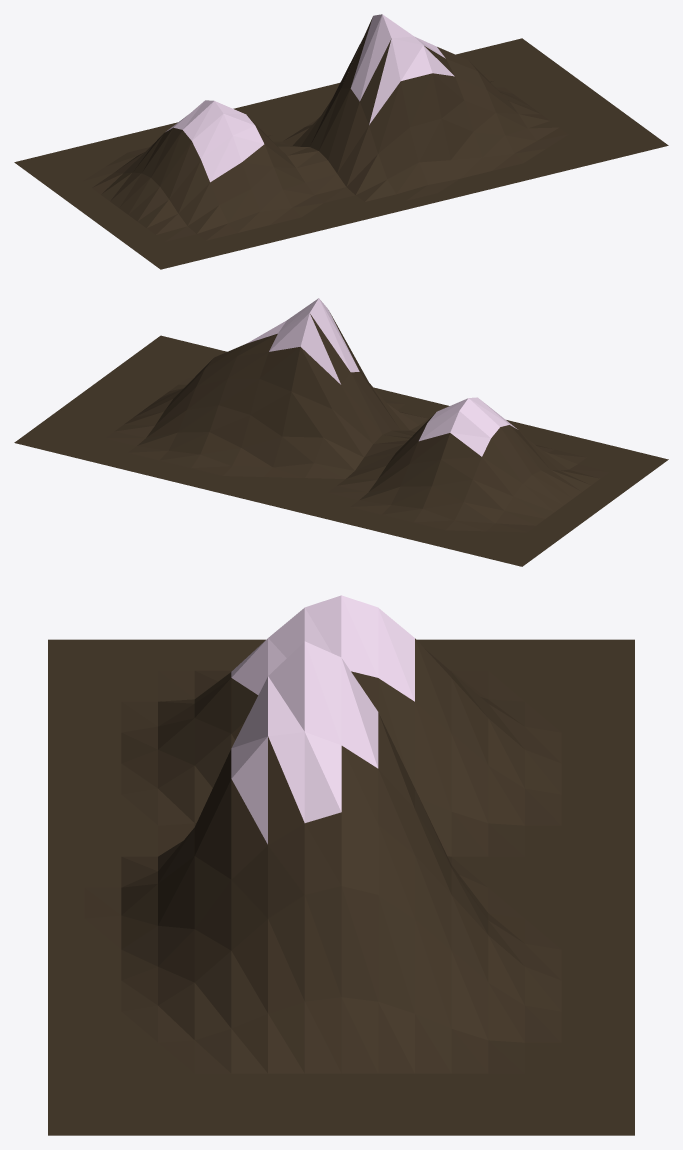
File: mountain.fbx
The picture shows the model from 3 angles, top to bottom: view 1: azimuth 30°, elevation 25°; view 2: azimuth 150°, elevation 25°; view 3: azimuth 270°, elevation 25°; orthographic projection. The views are drawn at different scales.
Visible parts, largest first — view 1: Plane; view 2: Plane; view 3: Plane.
Part boxes in pixels (<box>): Plane: <box>14,14,668,269</box>; Plane: <box>14,298,668,566</box>; Plane: <box>48,595,634,1135</box>.
Bounding box in the file's own units: 20 × 5.22 × 10.
